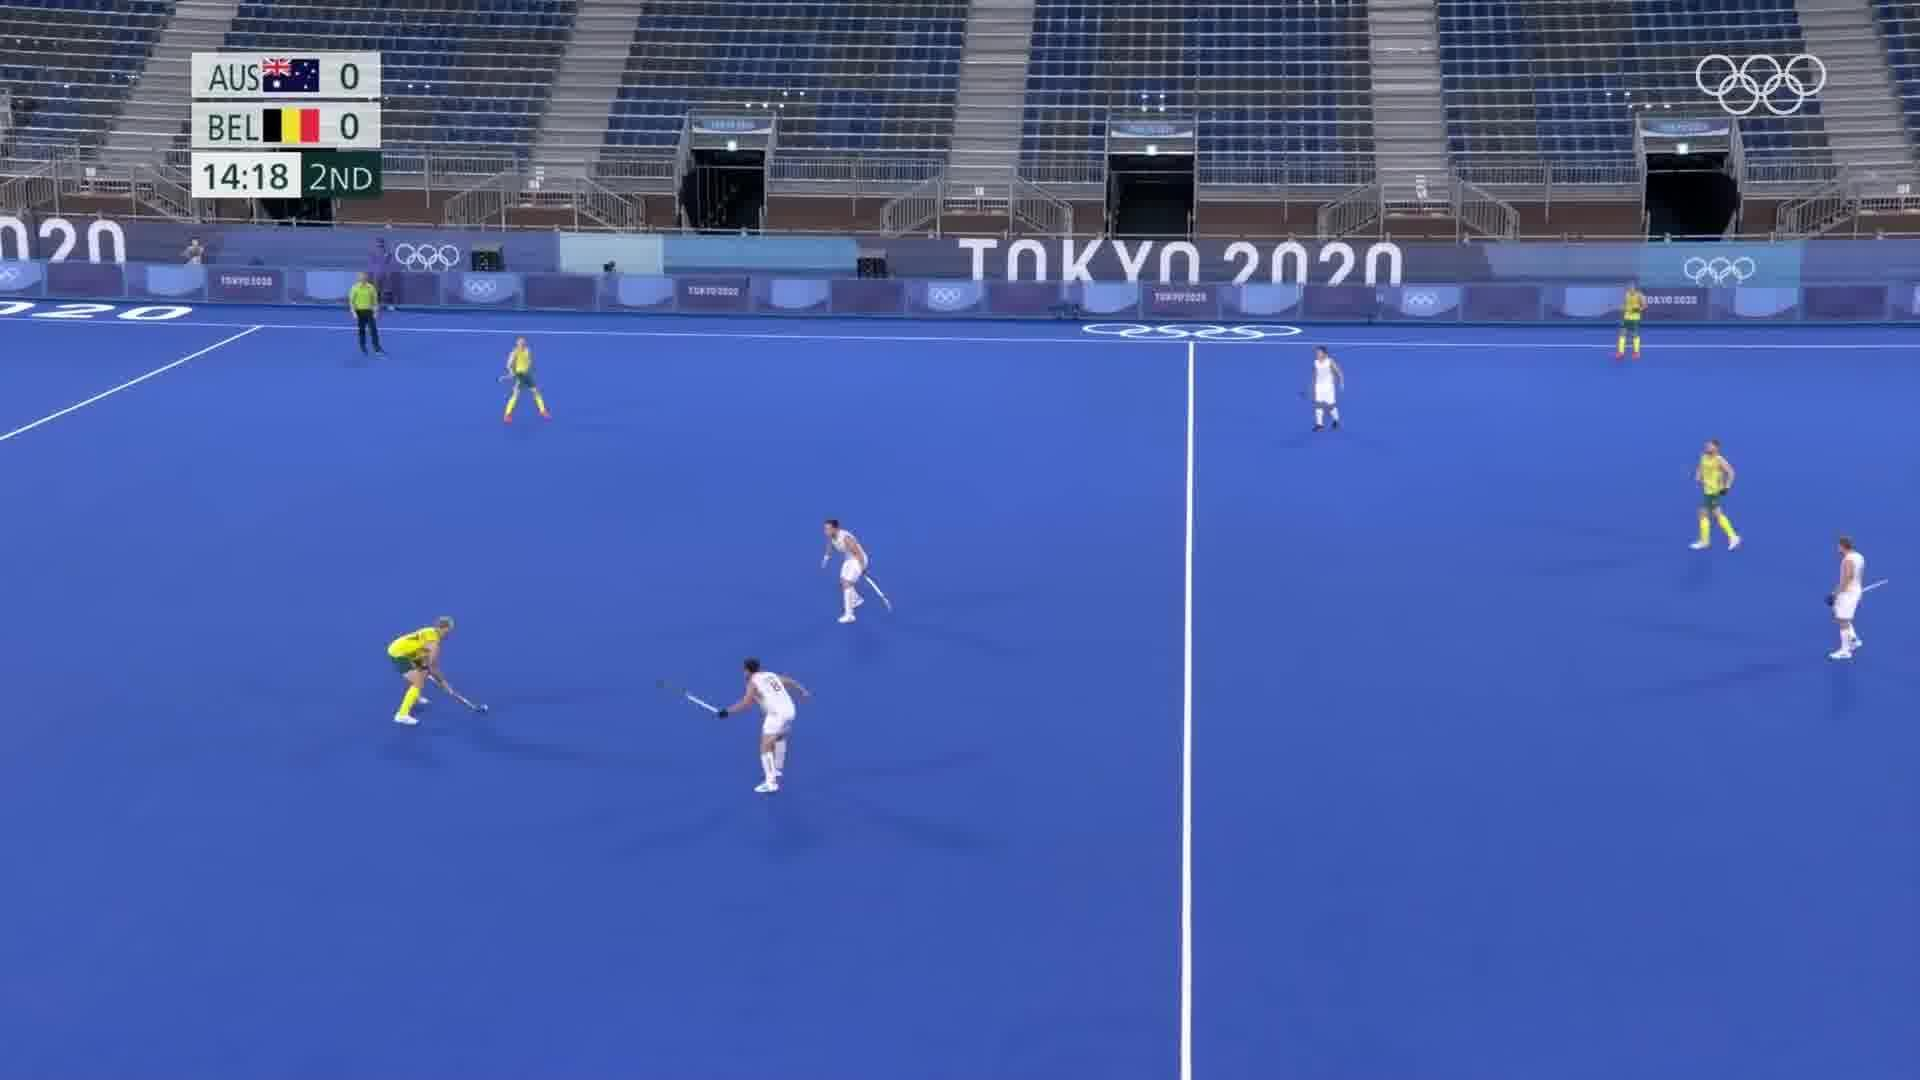ball: (476, 697, 495, 715)
